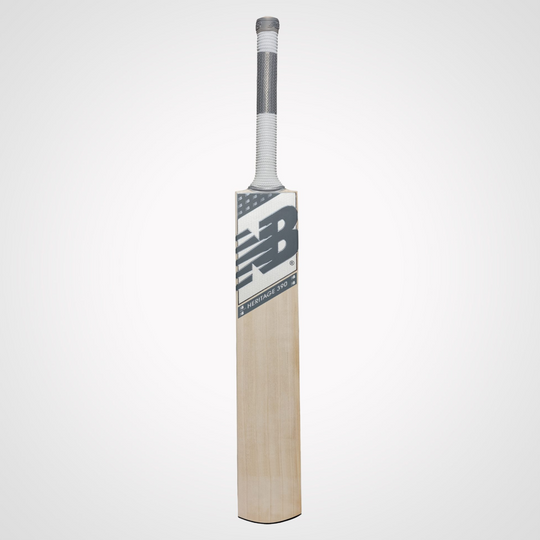bottom left: (226, 507, 251, 532)
bottom right: (287, 500, 317, 530)
top left: (226, 184, 254, 212)
top right: (281, 182, 312, 213)
